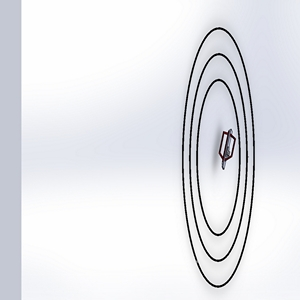circle: (164, 20, 270, 291)
submarine: (216, 125, 237, 179)
